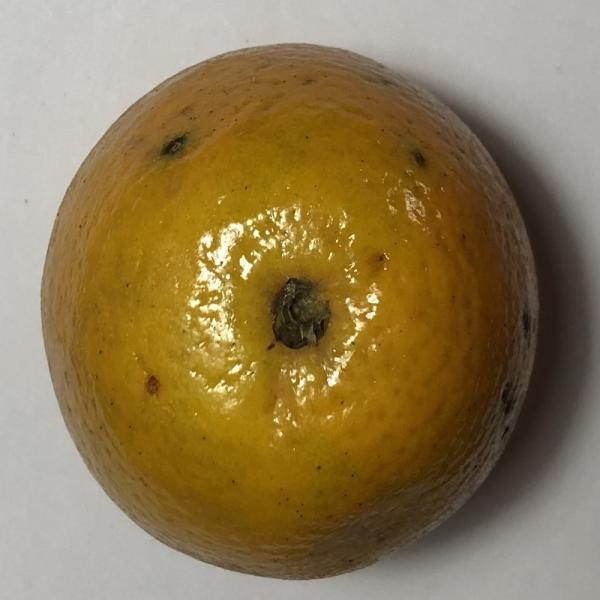Machas negras: (18, 25, 559, 582)
